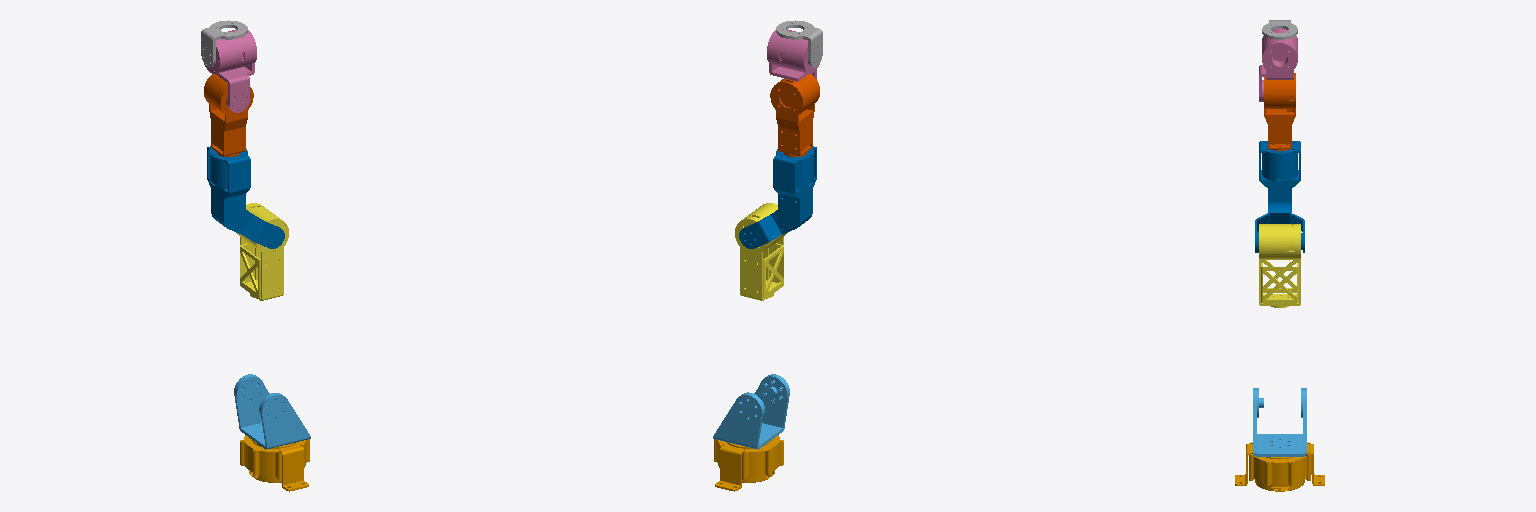
robot.urdf — robot:
<?xml version="1.0" encoding="UTF-8"?>
<robot name="robot">
  <link name="base_link">
    <inertial>
      <mass value="0.92653116"/>
      <origin xyz="0.0000558 -0.00005184 0.03162308" rpy="0 0 0"/>
      <inertia ixx="0.00120513" ixy="5e-7" ixz="0.00000107" iyy="0.00083041" iyz="-0.00000589" izz="0.00142156"/>
    </inertial>
    <visual>
      <origin xyz="0 0 0" rpy="0 0 0"/>
      <geometry>
        <mesh filename="meshes/base_link.stl"/>
      </geometry>
    </visual>
    <collision>
      <origin xyz="0 0 0" rpy="0 0 0"/>
      <geometry>
        <mesh filename="meshes/base_link.stl"/>
      </geometry>
    </collision>
  </link>
  <link name="Link_1">
    <inertial>
      <mass value="0.64611621"/>
      <origin xyz="-0.00939786 0.0000704 0.03350522" rpy="0 0 0"/>
      <inertia ixx="0.00122572" ixy="6.4e-7" ixz="0.00017373" iyy="0.00078899" iyz="-0.00000161" izz="0.00098172"/>
    </inertial>
    <visual>
      <origin xyz="0 0 0" rpy="0 0 0"/>
      <geometry>
        <mesh filename="meshes/Link_1.stl"/>
      </geometry>
    </visual>
    <collision>
      <origin xyz="0 0 0" rpy="0 0 0"/>
      <geometry>
        <mesh filename="meshes/Link_1.stl"/>
      </geometry>
    </collision>
  </link>
  <link name="Link_2">
    <inertial>
      <mass value="2.60709084"/>
      <origin xyz="0.00000532 -0.06379929 -0.03408965" rpy="0 0 0"/>
      <inertia ixx="0.0149818" ixy="0.00000417" ixz="8.2e-7" iyy="0.00230646" iyz="0.00026357" izz="0.0150057"/>
    </inertial>
    <visual>
      <origin xyz="0 0 0" rpy="0 0 0"/>
      <geometry>
        <mesh filename="meshes/Link_2.stl"/>
      </geometry>
    </visual>
    <collision>
      <origin xyz="0 0 0" rpy="0 0 0"/>
      <geometry>
        <mesh filename="meshes/Link_2.stl"/>
      </geometry>
    </collision>
  </link>
  <link name="Link_3">
    <inertial>
      <mass value="1.36209612"/>
      <origin xyz="-0.00002259 -0.00043766 0.09074299" rpy="0 0 0"/>
      <inertia ixx="0.00228773" ixy="5.9e-7" ixz="5.3e-7" iyy="0.00202038" iyz="0.00001036" izz="0.00082694"/>
    </inertial>
    <visual>
      <origin xyz="0 0 0" rpy="0 0 0"/>
      <geometry>
        <mesh filename="meshes/Link_3.stl"/>
      </geometry>
    </visual>
    <collision>
      <origin xyz="0 0 0" rpy="0 0 0"/>
      <geometry>
        <mesh filename="meshes/Link_3.stl"/>
      </geometry>
    </collision>
  </link>
  <link name="Link_4">
    <inertial>
      <mass value="1.76153582"/>
      <origin xyz="-0.05223196 0.08041667 -0.03084671" rpy="0 0 0"/>
      <inertia ixx="0.00343955" ixy="0.00060103" ixz="-0.00001215" iyy="0.0011144" iyz="0.00001858" izz="0.00350834"/>
    </inertial>
    <visual>
      <origin xyz="0 0 0" rpy="0 0 0"/>
      <geometry>
        <mesh filename="meshes/Link_4.stl"/>
      </geometry>
    </visual>
    <collision>
      <origin xyz="0 0 0" rpy="0 0 0"/>
      <geometry>
        <mesh filename="meshes/Link_4.stl"/>
      </geometry>
    </collision>
  </link>
  <link name="Link_5">
    <inertial>
      <mass value="1.38147901"/>
      <origin xyz="-0.00002277 -0.00013572 0.07326344" rpy="0 0 0"/>
      <inertia ixx="0.00185077" ixy="5.8e-7" ixz="7.8e-7" iyy="0.00184019" iyz="-0.00001408" izz="0.00048462"/>
    </inertial>
    <visual>
      <origin xyz="0 0 0" rpy="0 0 0"/>
      <geometry>
        <mesh filename="meshes/Link_5.stl"/>
      </geometry>
    </visual>
    <collision>
      <origin xyz="0 0 0" rpy="0 0 0"/>
      <geometry>
        <mesh filename="meshes/Link_5.stl"/>
      </geometry>
    </collision>
  </link>
  <link name="Link_6">
    <inertial>
      <mass value="1.18994417"/>
      <origin xyz="-0.00011233 0.06329954 -0.02121872" rpy="0 0 0"/>
      <inertia ixx="0.00092418" ixy="0.00002796" ixz="-3e-7" iyy="0.00067784" iyz="0.00014523" izz="0.00099654"/>
    </inertial>
    <visual>
      <origin xyz="0 0 0" rpy="0 0 0"/>
      <geometry>
        <mesh filename="meshes/Link_6.stl"/>
      </geometry>
    </visual>
    <collision>
      <origin xyz="0 0 0" rpy="0 0 0"/>
      <geometry>
        <mesh filename="meshes/Link_6.stl"/>
      </geometry>
    </collision>
  </link>
  <link name="Link_7">
    <inertial>
      <mass value="0.12520667"/>
      <origin xyz="0.02413322 0 -0.01539933" rpy="0 0 0"/>
      <inertia ixx="0.00007515" ixy="0" ixz="0.00002323" iyy="0.00008184" iyz="0" izz="0.00005075"/>
    </inertial>
    <visual>
      <origin xyz="0 0 0" rpy="0 0 0"/>
      <geometry>
        <mesh filename="meshes/Link_7.stl"/>
      </geometry>
    </visual>
    <collision>
      <origin xyz="0 0 0" rpy="0 0 0"/>
      <geometry>
        <mesh filename="meshes/Link_7.stl"/>
      </geometry>
    </collision>
  </link>
  <link name="Link_ee">
  </link>
  <joint name="Joint_1" type="revolute">
    <parent link="base_link"/>
    <child link="Link_1"/>
    <origin xyz="0 -0.00001092 0.0566" rpy="0 0 0"/>
    <axis xyz="0 0 1"/>
    <limit lower="-3.412" upper="3.142" effort="10" velocity="1"/>
  </joint>
  <joint name="Joint_2" type="revolute">
    <parent link="Link_1"/>
    <child link="Link_2"/>
    <origin xyz="-0.0235 0.0325 0.069" rpy="-1.57079633 0 0"/>
    <axis xyz="0 0 1"/>
    <limit lower="-1.571" upper="1.571" effort="10" velocity="1"/>
  </joint>
  <joint name="Joint_3" type="revolute">
    <parent link="Link_2"/>
    <child link="Link_3"/>
    <origin xyz="-1.8e-7 -0.173 -0.03249939" rpy="1.57079633 0 0"/>
    <axis xyz="0 0 1"/>
    <limit lower="-3.142" upper="3.142" effort="10" velocity="1"/>
  </joint>
  <joint name="Joint_4" type="revolute">
    <parent link="Link_3"/>
    <child link="Link_4"/>
    <origin xyz="0 -0.031 0.108" rpy="1.57079633 0 0"/>
    <axis xyz="0 0 1"/>
    <limit lower="-3.142" upper="1.1" effort="10" velocity="1"/>
  </joint>
  <joint name="Joint_5" type="revolute">
    <parent link="Link_4"/>
    <child link="Link_5"/>
    <origin xyz="-0.0570187 0.13799997 -0.031" rpy="-1.57079633 0 0"/>
    <axis xyz="0 0 1"/>
    <limit lower="-3.142" upper="3.142" effort="10" velocity="1"/>
  </joint>
  <joint name="Joint_6" type="revolute">
    <parent link="Link_5"/>
    <child link="Link_6"/>
    <origin xyz="0 -0.0235 0.098" rpy="1.57079633 0 0"/>
    <axis xyz="0 0 1"/>
    <limit lower="-2" upper="2" effort="10" velocity="1"/>
  </joint>
  <joint name="Joint_7" type="revolute">
    <parent link="Link_6"/>
    <child link="Link_7"/>
    <origin xyz="-0.0325 0.07046661 -0.0235" rpy="-1.57079633 0 1.57079633"/>
    <axis xyz="0 0 1"/>
    <limit lower="-1.68" upper="1.8" effort="10" velocity="1"/>
  </joint>
  <joint name="Joint_ee" type="fixed">
    <parent link="Link_7"/>
    <child link="Link_ee"/>
    <origin xyz="0.037 0 -0.0325" rpy="-1.57079633 0 -1.57079633"/>
    <axis xyz="0 0 1"/>
  </joint>
</robot>

--- Render facts (derived) ---
Views: 3 orthographic renders of the robot side by side, from view 1: azimuth 30°, elevation 25°; view 2: azimuth 150°, elevation 25°; view 3: azimuth 270°, elevation 25°.
Model robot with 9 links and 8 joints (7 revolute, 1 fixed), rooted at base_link, posed all joints at 0.
Links seen in each view (by area): view 1: Link_4, Link_1, Link_3, base_link, Link_6, Link_5, Link_7; view 2: Link_4, Link_1, Link_5, Link_3, base_link, Link_6, Link_7; view 3: Link_3, Link_4, base_link, Link_5, Link_1, Link_6, Link_7.
Boxes of the visible links, box(x1,y1,x2,y2) form: Link_4: box(207, 146, 284, 248); Link_1: box(234, 374, 310, 449); Link_3: box(237, 203, 288, 300); base_link: box(240, 435, 309, 491); Link_6: box(204, 29, 256, 112); Link_5: box(204, 74, 253, 156); Link_7: box(201, 20, 247, 67); Link_4: box(739, 146, 816, 248); Link_1: box(713, 374, 789, 449); Link_5: box(770, 74, 819, 156); Link_3: box(735, 203, 786, 300); base_link: box(714, 435, 783, 491); Link_6: box(767, 29, 819, 81); Link_7: box(776, 20, 822, 67); Link_3: box(1259, 224, 1300, 307); Link_4: box(1255, 141, 1304, 252); base_link: box(1235, 442, 1324, 491); Link_5: box(1264, 73, 1295, 150); Link_1: box(1253, 388, 1306, 456); Link_6: box(1259, 28, 1297, 101); Link_7: box(1262, 20, 1297, 39).
Bounding box of the posed robot: 0.1673 × 0.1425 × 0.7501 m (x, y, z).
7 mesh visuals loaded from 8 distinct referenced files (7 binary STL); not drawn: 1 (reference not matched to a file when rendering).
